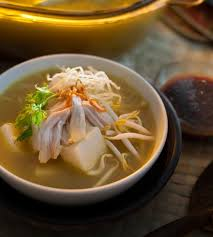soto: (2, 54, 178, 200)
